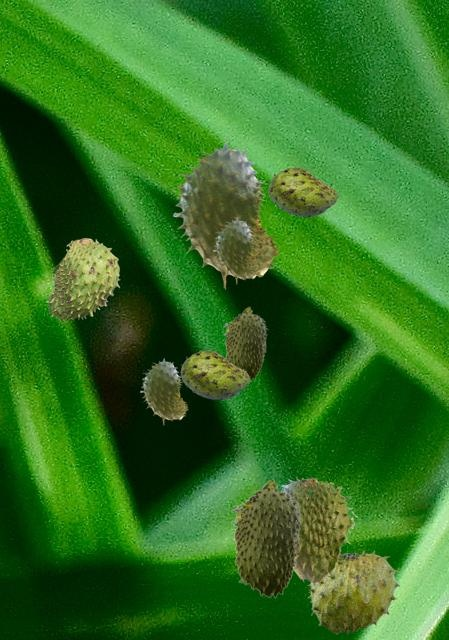guyabano: (173, 141, 278, 288), (231, 478, 302, 597), (279, 477, 357, 585), (307, 549, 399, 633), (45, 238, 119, 321), (268, 167, 337, 216), (180, 350, 249, 399), (223, 306, 267, 380), (140, 358, 187, 424), (213, 217, 260, 283)
